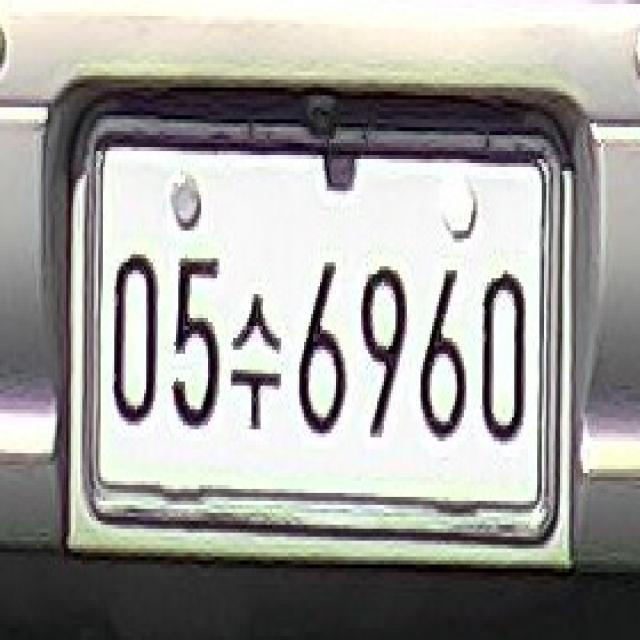0: (476, 246, 530, 462), (109, 234, 163, 436)
5: (176, 239, 224, 446)
6: (296, 238, 349, 442), (423, 242, 469, 450)
9: (362, 240, 410, 444)
license_plate: (88, 132, 555, 524)
su: (231, 272, 284, 449)
